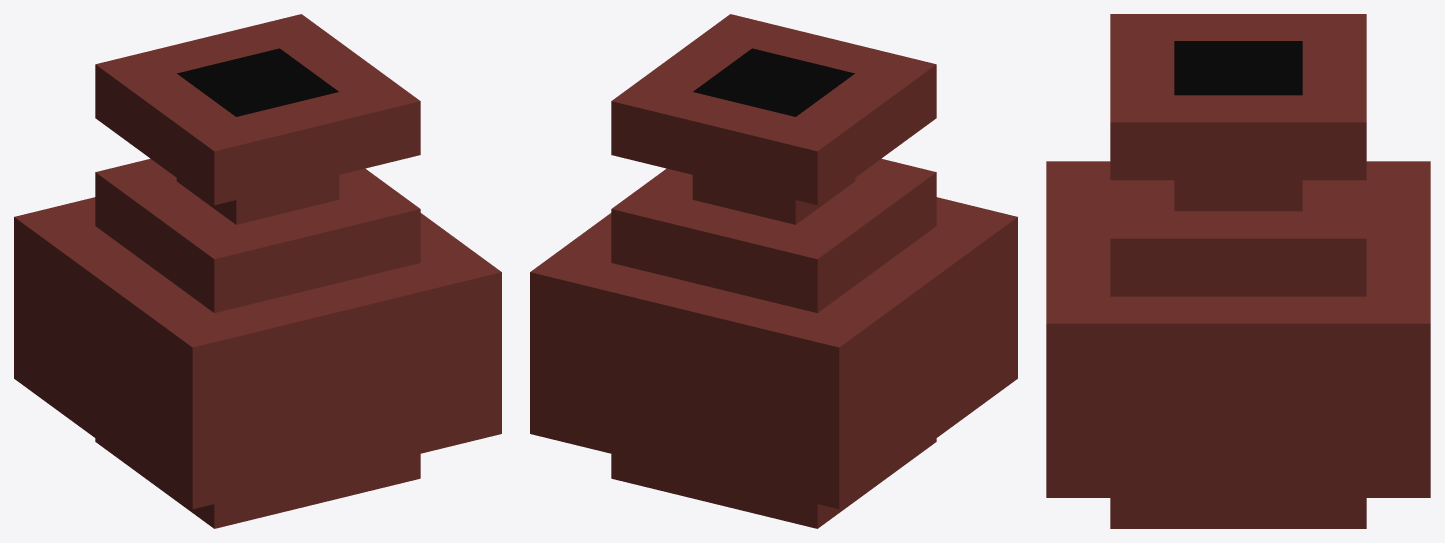
Rendered from pot_b.obj.
The picture shows the model from 3 angles, left to right: view 1: azimuth 30°, elevation 25°; view 2: azimuth 150°, elevation 25°; view 3: azimuth 270°, elevation 25°; orthographic projection. The views are drawn at different scales.
Size of the model in its own units: 0.6 by 0.7 by 0.6.
1 material, 1 textured.
